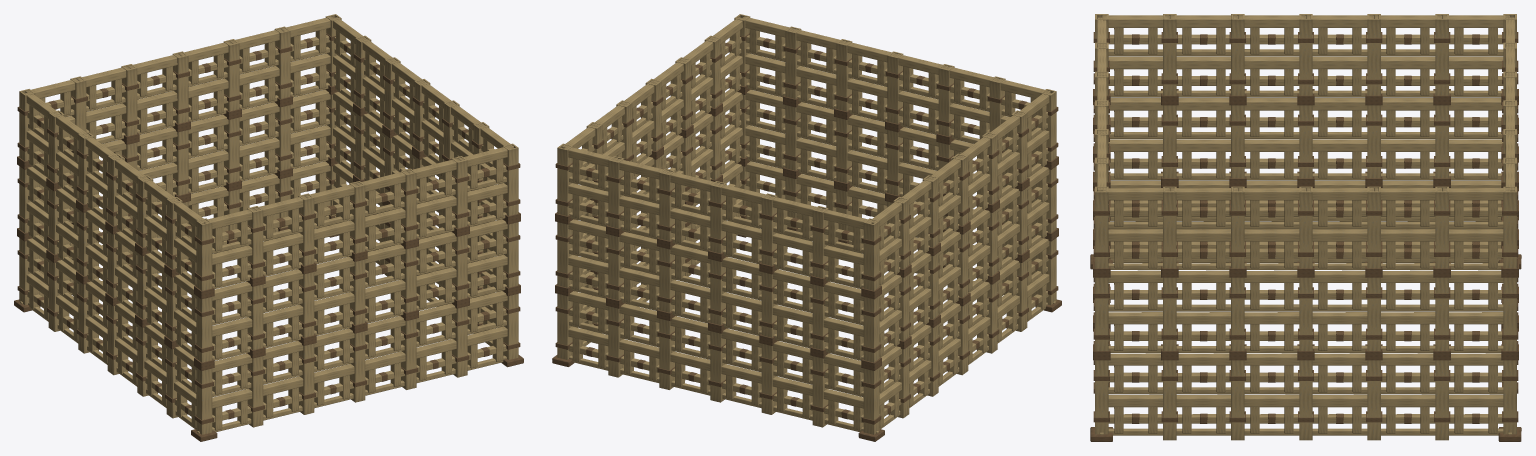
3 views of the same model, side by side, from view 1: azimuth 30°, elevation 25°; view 2: azimuth 150°, elevation 25°; view 3: azimuth 270°, elevation 25° (orthographic). The views are drawn at different scales.
Visible parts, largest first — view 1: Tier 2 side 0 post 0, Tier 0 side 0 post 0, Tier 1 side 0 post 0, Tier 2 side 0 post 1, Tier 0 side 0 post 1, Tier 0 side 0 post 2, Tier 2 side 2 post 4, Tier 0 side 0 post 4, Tier 2 side 0 post 2, Tier 2 side 0 post 3, Tier 2 side 2 post 3, Tier 2 side 2 post 2 (+52 smaller); view 2: Tier 2 side 3 post 0, Tier 0 side 3 post 0, Tier 1 side 3 post 0, Tier 2 side 2 post 5, Tier 0 side 2 post 5, Tier 0 side 2 post 4, Tier 2 side 2 post 4, Tier 2 side 2 post 3, Tier 2 side 0 post 2, Tier 0 side 2 post 2, Tier 0 side 2 post 3, Tier 2 side 0 post 4 (+52 smaller); view 3: Tier 2 side 1 post 2, Tier 2 side 1 post 3, Tier 2 side 1 post 4, Tier 2 side 1 post 1, Tier 2 side 1 post 5, Tier 2 side 1 post 0, Tier 2 side 2 post 0, Tier 0 side 1 post 1, Tier 0 side 1 post 2, Tier 0 side 1 post 3, Tier 0 side 1 post 4, Tier 0 side 1 post 5 (+85 smaller).
Boxes of the visible parts, x1,y1,x2,y2 form: Tier 2 side 0 post 0: (196, 218, 212, 290); Tier 0 side 0 post 0: (196, 367, 212, 434); Tier 1 side 0 post 0: (196, 296, 212, 362); Tier 2 side 0 post 1: (247, 206, 263, 278); Tier 0 side 0 post 1: (247, 356, 263, 427); Tier 0 side 0 post 2: (299, 343, 314, 414); Tier 2 side 2 post 4: (121, 64, 137, 136); Tier 0 side 0 post 4: (401, 318, 416, 389); Tier 2 side 0 post 2: (298, 193, 314, 265); Tier 2 side 0 post 3: (349, 181, 365, 253); Tier 2 side 2 post 3: (172, 51, 188, 123); Tier 2 side 2 post 2: (223, 39, 239, 111); Tier 2 side 3 post 0: (863, 218, 879, 290); Tier 0 side 3 post 0: (863, 367, 879, 434); Tier 1 side 3 post 0: (863, 296, 879, 362); Tier 2 side 2 post 5: (812, 206, 828, 278); Tier 0 side 2 post 5: (812, 356, 828, 427); Tier 0 side 2 post 4: (761, 343, 777, 414); Tier 2 side 2 post 4: (761, 193, 777, 265); Tier 2 side 2 post 3: (710, 181, 726, 253); Tier 2 side 0 post 2: (938, 64, 954, 136); Tier 0 side 2 post 2: (659, 318, 674, 389); Tier 0 side 2 post 3: (710, 331, 725, 402); Tier 2 side 0 post 4: (836, 39, 852, 111); Tier 2 side 1 post 2: (1231, 186, 1244, 268); Tier 2 side 1 post 3: (1299, 186, 1312, 268); Tier 2 side 1 post 4: (1367, 186, 1380, 268); Tier 2 side 1 post 1: (1163, 186, 1176, 268); Tier 2 side 1 post 5: (1435, 186, 1448, 268); Tier 2 side 1 post 0: (1095, 186, 1108, 268); Tier 2 side 2 post 0: (1503, 186, 1516, 268); Tier 0 side 1 post 1: (1163, 360, 1176, 440); Tier 0 side 1 post 2: (1231, 360, 1244, 440); Tier 0 side 1 post 3: (1299, 360, 1312, 440); Tier 0 side 1 post 4: (1367, 360, 1380, 440); Tier 0 side 1 post 5: (1435, 360, 1448, 440).
Bounding box in the file's own units: 2.85 × 1.81 × 2.85.
2 materials, 2 textured.
